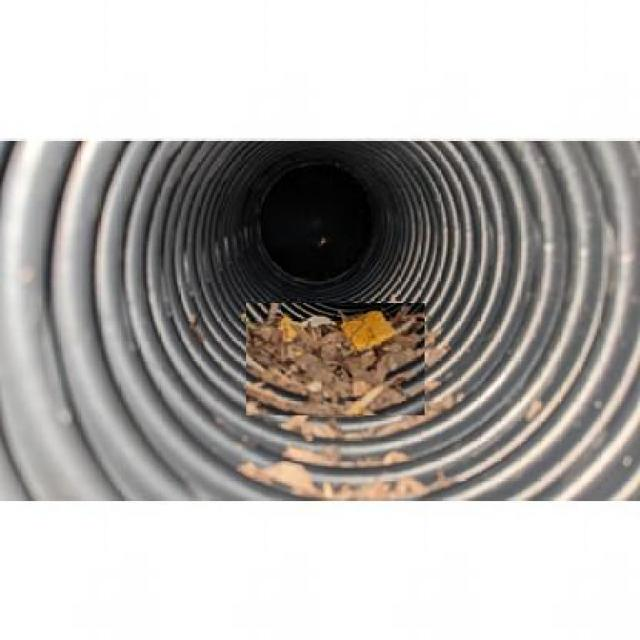dirt: (253, 320, 439, 506)
